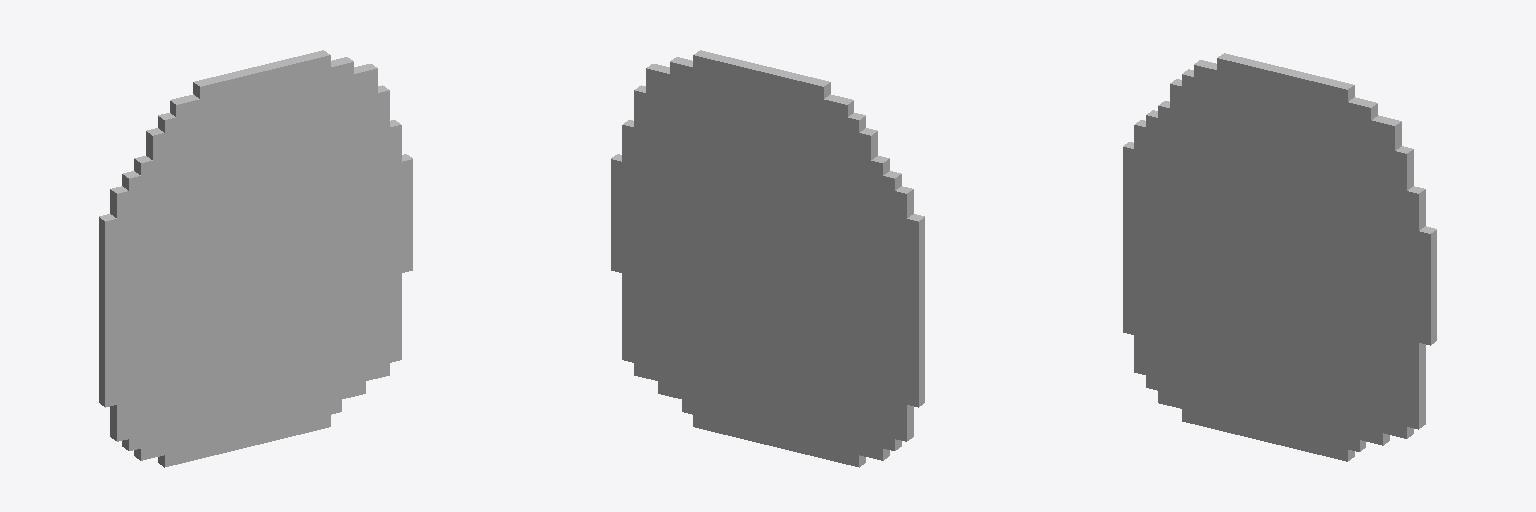
File: Portal.obj
3 views of the same model, side by side, from view 1: azimuth 30°, elevation 25°; view 2: azimuth 150°, elevation 25°; view 3: azimuth 330°, elevation 25° (orthographic).
Parts seen in each view (by area): view 1: object 1; view 2: object 1; view 3: object 1.
Boxes of the visible parts, box(x1,y1,x2,y2) form: object 1: box(99, 50, 412, 467); object 1: box(611, 50, 924, 467); object 1: box(1123, 53, 1436, 461).
Size of the model in its own units: 2.6 by 3 by 0.1.